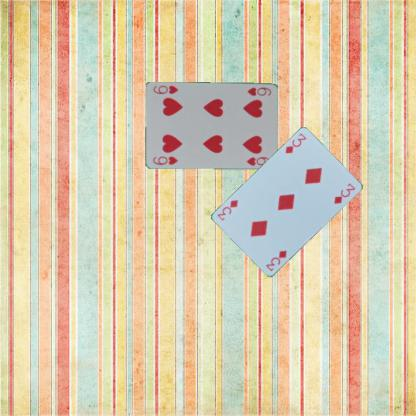3d: (283, 130, 308, 156), (263, 248, 288, 273)
6h: (151, 154, 179, 166), (245, 85, 272, 97)
